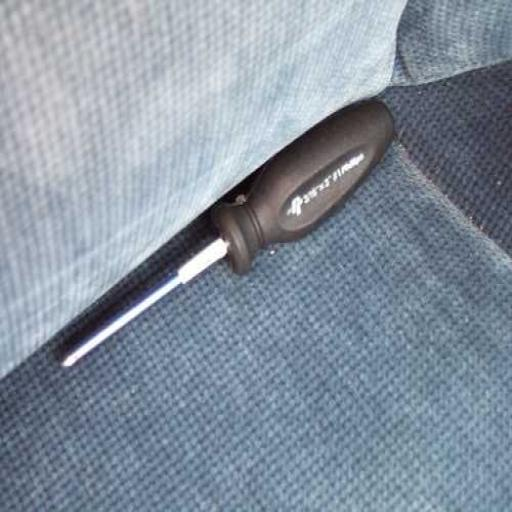screwdriver: (59, 97, 396, 371)
